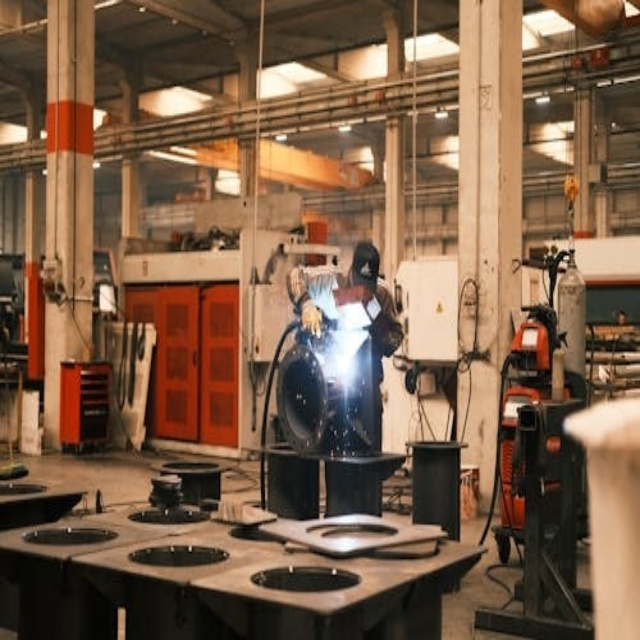Guantes: (294, 290, 326, 342)
